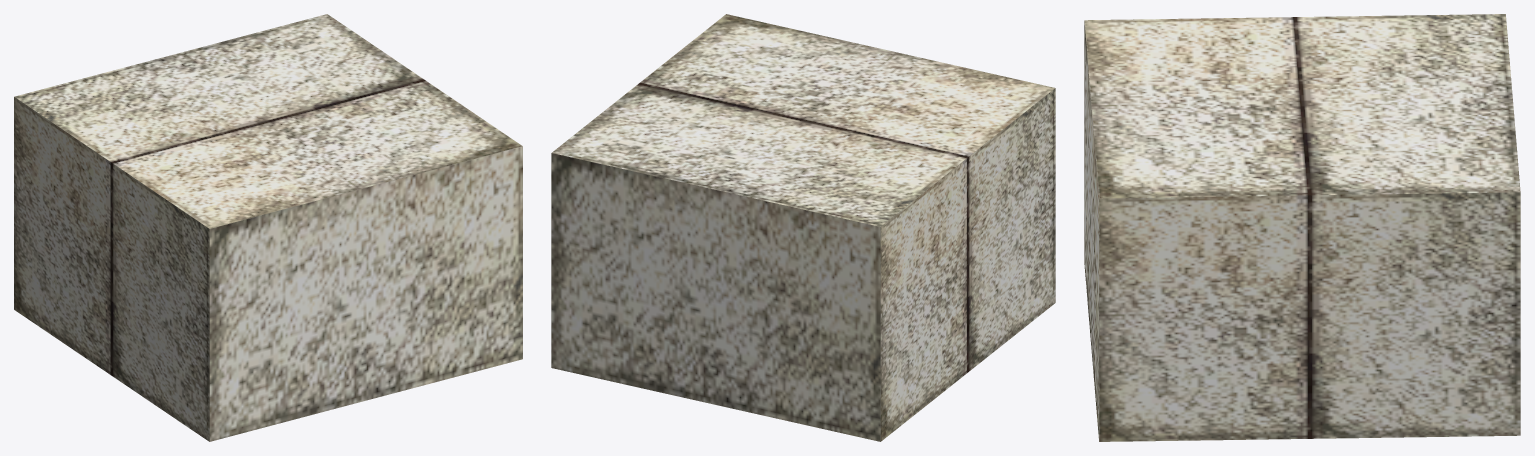
Rendered from stone_6.glb.
The picture shows the model from 3 angles, left to right: view 1: azimuth 30°, elevation 25°; view 2: azimuth 150°, elevation 25°; view 3: azimuth 270°, elevation 25°; orthographic projection. The views are drawn at different scales.
Parts seen in each view (by area): view 1: stone_6.001; view 2: stone_6.001; view 3: stone_6.001.
Boxes of the visible parts, left/top/right/bottom form: stone_6.001: left=14, top=14, right=522, bottom=441; stone_6.001: left=551, top=14, right=1055, bottom=441; stone_6.001: left=1084, top=14, right=1520, bottom=441.
Bounding box in the file's own units: 60.57 × 37.26 × 60.51.
Materials: 1 (1 with a texture image).
